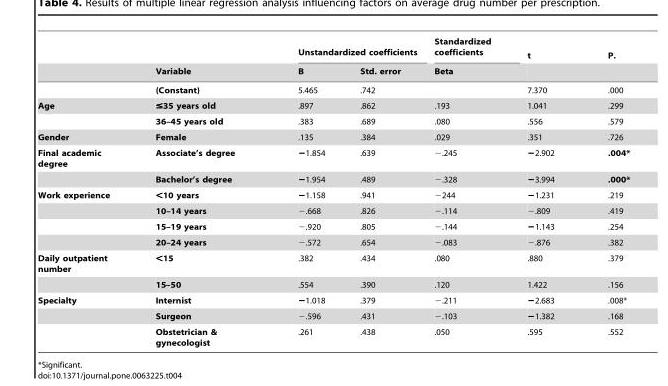table: (36, 36, 629, 346)
table column: (131, 36, 265, 346), (36, 36, 131, 346), (341, 36, 425, 346), (425, 36, 508, 346), (265, 36, 341, 346), (508, 36, 580, 346), (580, 36, 629, 346)
table column header: (36, 36, 629, 80)
table row: (36, 36, 629, 63), (36, 144, 629, 171), (36, 250, 629, 276), (36, 323, 629, 346), (36, 63, 629, 80), (36, 80, 629, 97), (36, 97, 629, 113), (36, 113, 629, 129), (36, 171, 629, 187), (36, 202, 629, 218), (36, 218, 629, 234), (36, 234, 629, 250), (36, 276, 629, 292), (36, 307, 629, 323), (36, 129, 629, 144), (36, 187, 629, 202), (36, 292, 629, 307)
table spanning cell: (36, 187, 131, 250), (131, 36, 265, 80), (36, 292, 131, 346), (265, 36, 425, 63), (36, 144, 131, 187), (36, 250, 131, 292), (425, 36, 508, 80), (508, 36, 580, 80), (36, 97, 131, 129), (580, 36, 629, 80)
